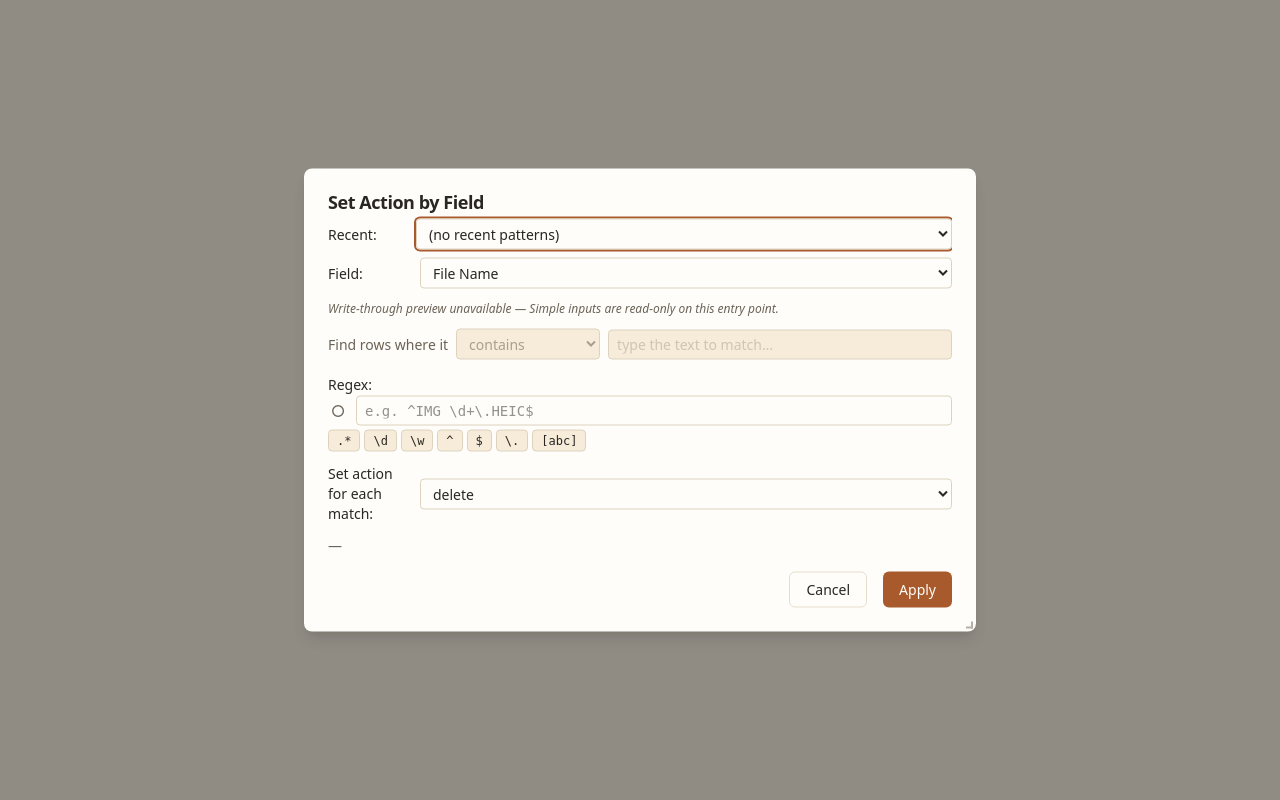
Test case: ActionDialog › delete-confirm shows a 0 count when applying an empty pattern with 'delete' selected
This screenshot has width=1280, height=800.
Step 1. Click the button with test id "action-btn-apply" → (918, 590), box [883, 572, 952, 608]
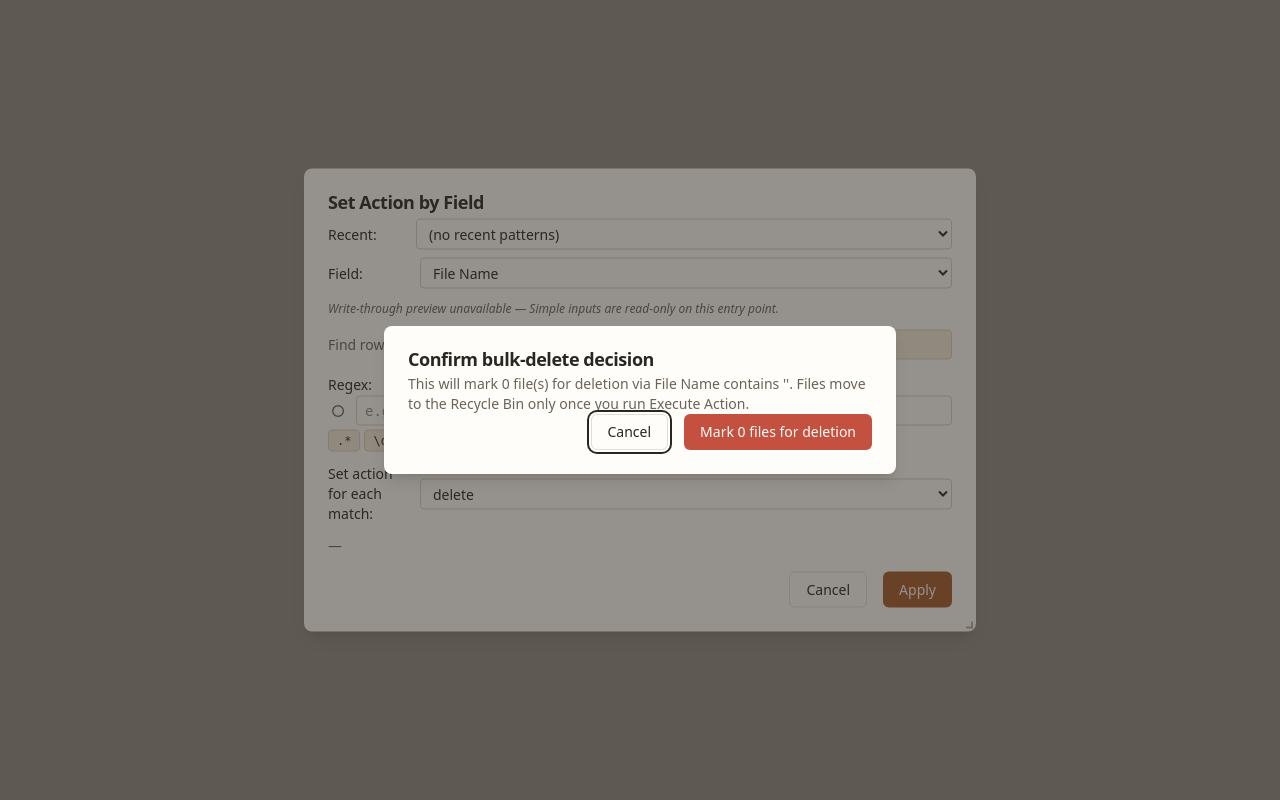
Expected: the button with test id "execute-all-delete-confirm-yes" reads "Mark 0 files for deletion", [684, 414, 872, 450]
